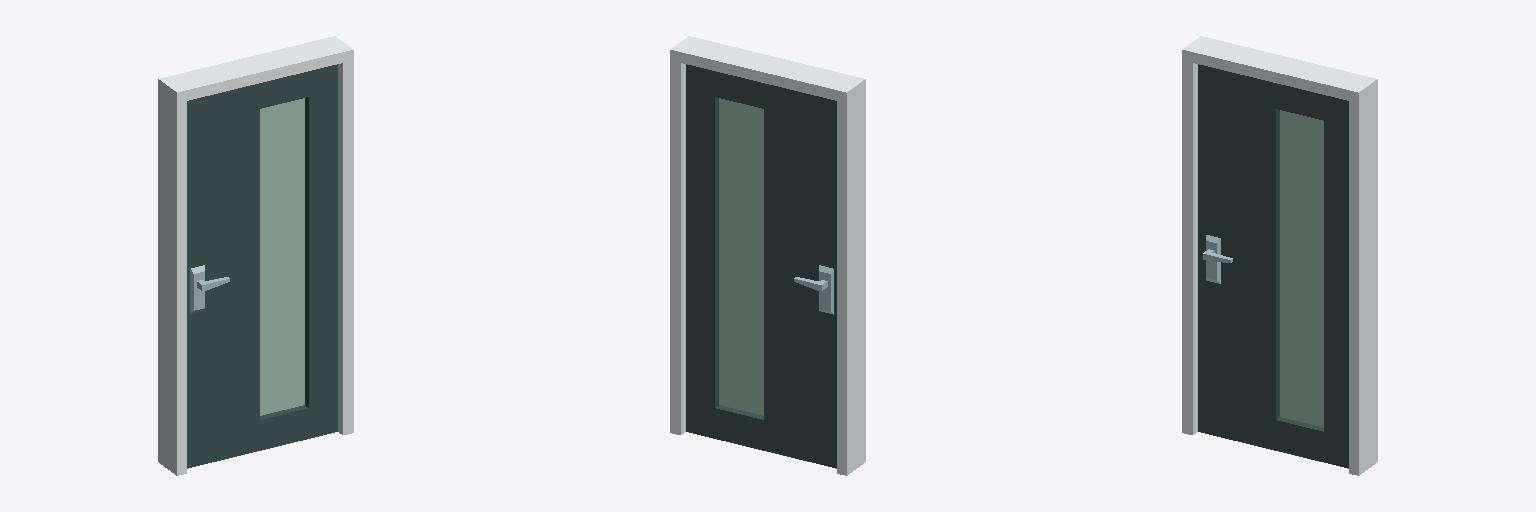
The picture shows the model from 3 angles: view 1: azimuth 30°, elevation 25°; view 2: azimuth 150°, elevation 25°; view 3: azimuth 330°, elevation 25°; orthographic projection.
Parts seen in each view (by area): view 1: door, doorwayFront; view 2: door, doorwayFront; view 3: door, doorwayFront.
Part boxes in pixels (x1,y1,x2,y2): door: (187, 64, 337, 468); doorwayFront: (158, 36, 353, 475); door: (686, 64, 836, 468); doorwayFront: (670, 36, 865, 475); door: (1198, 64, 1348, 468); doorwayFront: (1182, 36, 1377, 475).
Size of the model in its own units: 0.4814 by 1 by 0.1123.